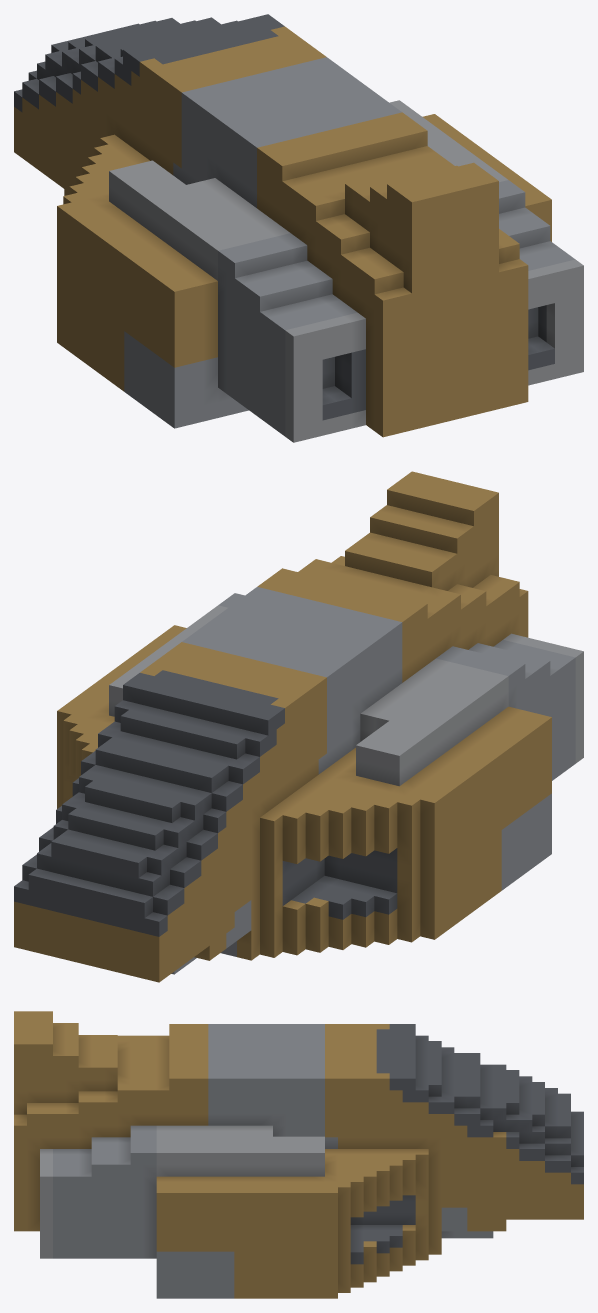
Rendered from racer_ship.glb.
The picture shows the model from 3 angles, top to bottom: view 1: azimuth 30°, elevation 25°; view 2: azimuth 150°, elevation 25°; view 3: azimuth 270°, elevation 25°; orthographic projection. The views are drawn at different scales.
Visible parts, largest first — view 1: voxels; view 2: voxels; view 3: voxels.
Part boxes in pixels (box(x1,y1,x2,y2)): voxels: box(14, 14, 583, 442); voxels: box(14, 471, 583, 982); voxels: box(14, 1011, 583, 1298).
Size of the model in its own units: 1.22 by 0.7969 by 2.06.
